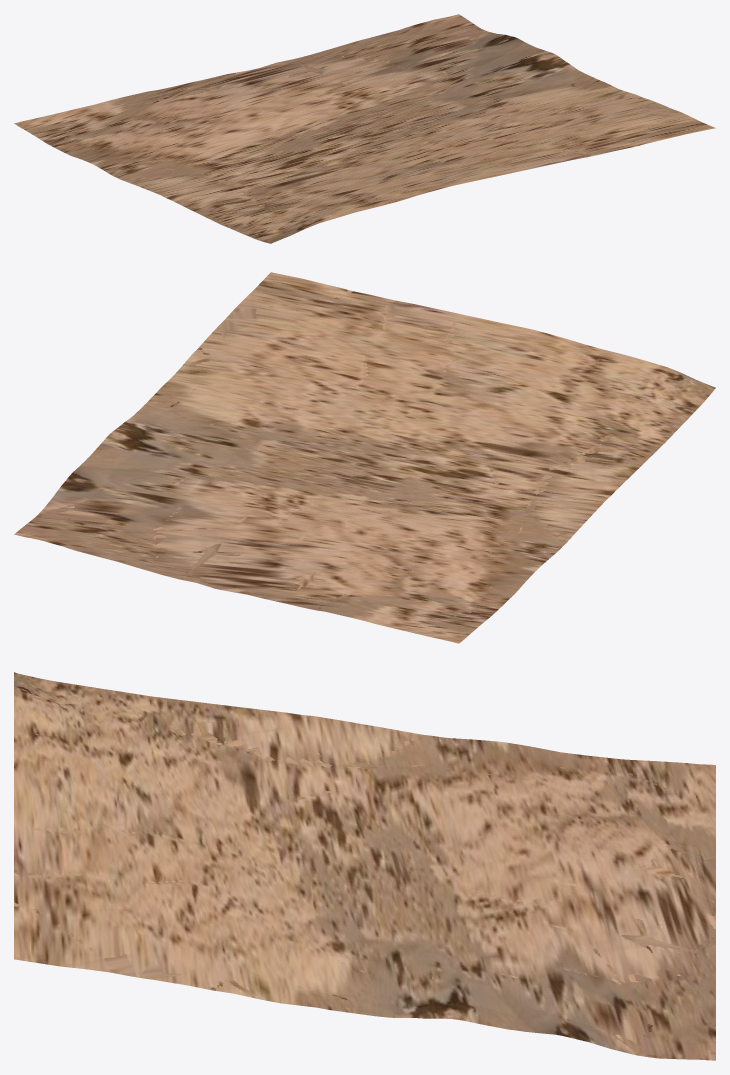
3 renders of one model, top to bottom at view 1: azimuth 30°, elevation 25°; view 2: azimuth 150°, elevation 25°; view 3: azimuth 270°, elevation 25°, orthographic. The views are drawn at different scales.
Size of the model in its own units: 2.09 by 0.3852 by 2.09.
2 materials, 2 textured.
